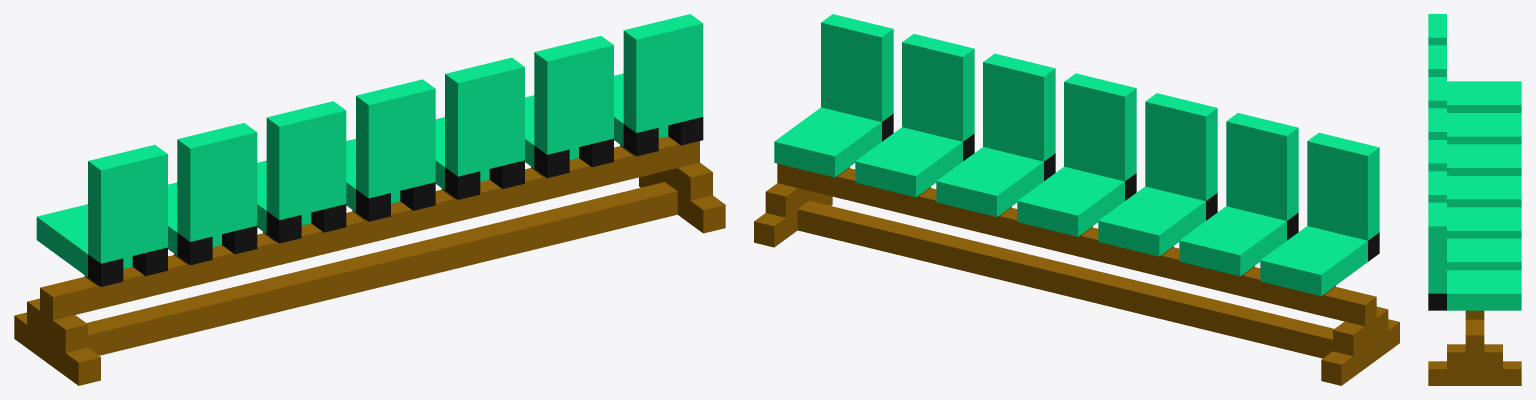
Rendered from barber furnitures-4.obj.
3 renders of one model, left to right at view 1: azimuth 30°, elevation 25°; view 2: azimuth 150°, elevation 25°; view 3: azimuth 270°, elevation 25°, orthographic. The views are drawn at different scales.
Parts seen in each view (by area): view 1: barber furnitures-4; view 2: barber furnitures-4; view 3: barber furnitures-4.
Boxes of the visible parts, <box> form: barber furnitures-4: <box>14,14,725,385</box>; barber furnitures-4: <box>754,14,1399,385</box>; barber furnitures-4: <box>1428,14,1521,385</box>.
Bounding box in the file's own units: 29 × 9 × 5.
1 material, 1 textured.
